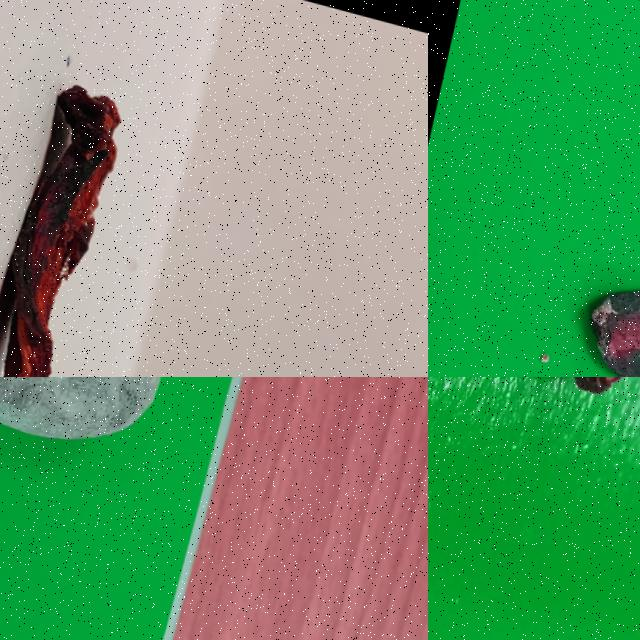Fine_cocoabeans: (0, 377, 235, 588)
Flat_cocoabeans: (0, 0, 167, 376), (452, 377, 639, 478), (530, 215, 639, 376)
